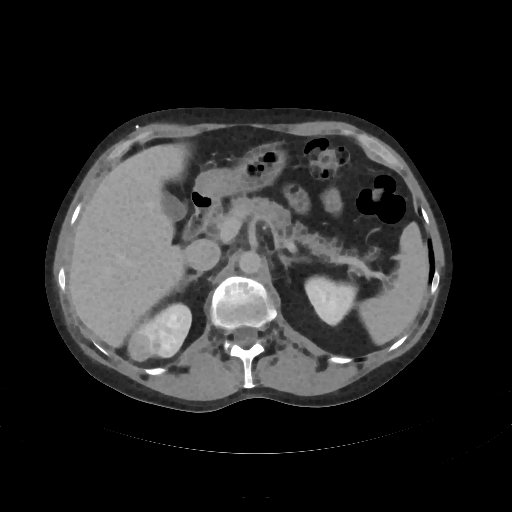Lesion: (127, 318, 164, 368)
